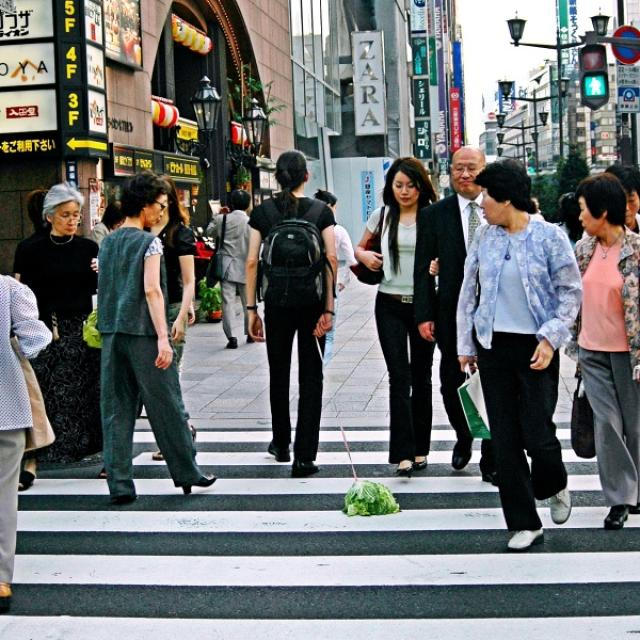body: (456, 160, 584, 550), (97, 168, 218, 502), (10, 184, 109, 490), (244, 146, 336, 475), (560, 170, 639, 531), (356, 156, 441, 474), (415, 146, 492, 473), (0, 241, 58, 614), (142, 174, 197, 462), (205, 190, 258, 350), (312, 187, 358, 358), (602, 161, 640, 233), (89, 200, 128, 250), (22, 184, 47, 236)
